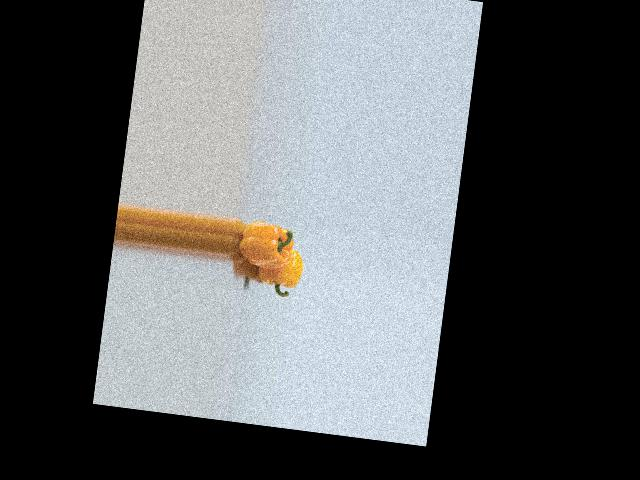bell_pepper: (247, 243, 305, 298)
